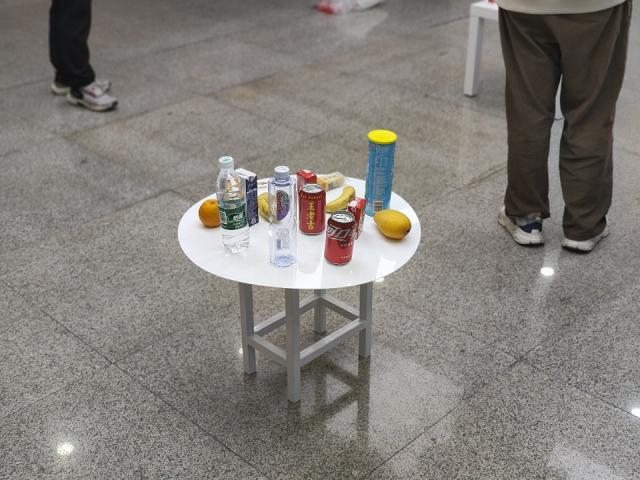Canned_drinks: (302, 183, 328, 236), (330, 214, 354, 263)
bottle: (220, 156, 250, 251), (272, 168, 298, 265)
cylinder: (367, 130, 396, 207)
